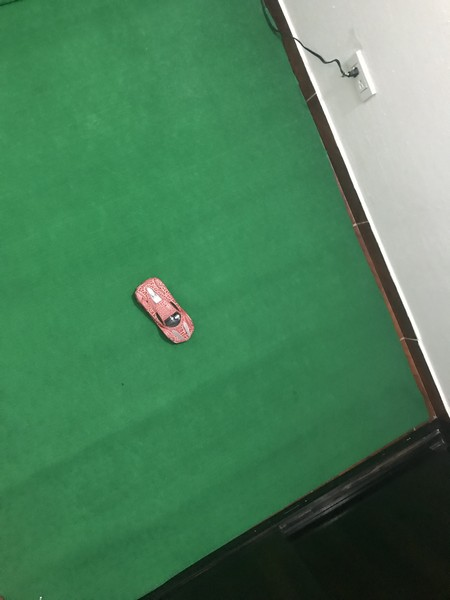RC: (132, 276, 196, 345)
